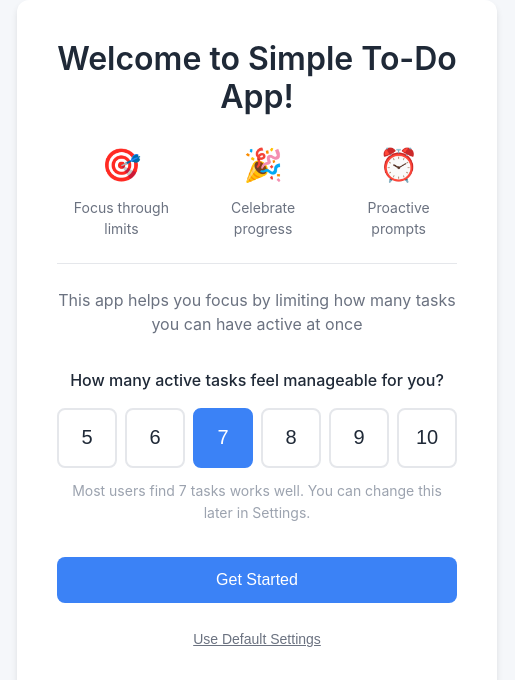
Scenario: FirstLaunchScreen › User Interactions › should show error message on API failure
This screenshot has width=515, height=680.
What coordinates should you click on to do the following:
click the button "Get Started"
I would click on:
 (257, 580)
Its box is 57,557 -> 457,603.
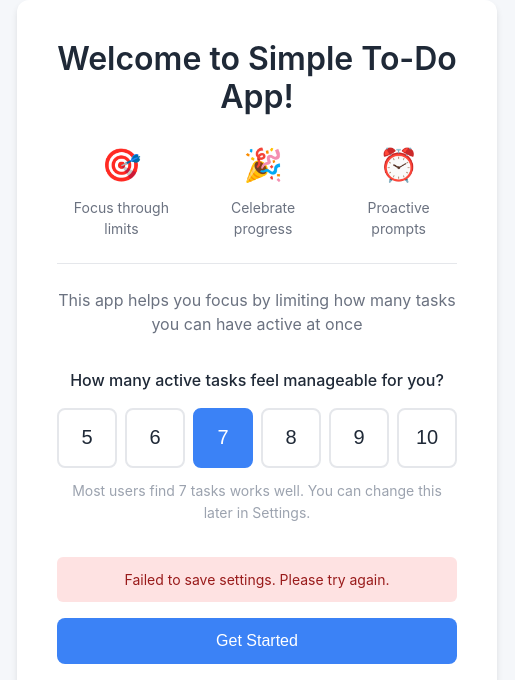
Expected: the message reads "Failed to save settings. Please try again.", 124,571 -> 389,588
